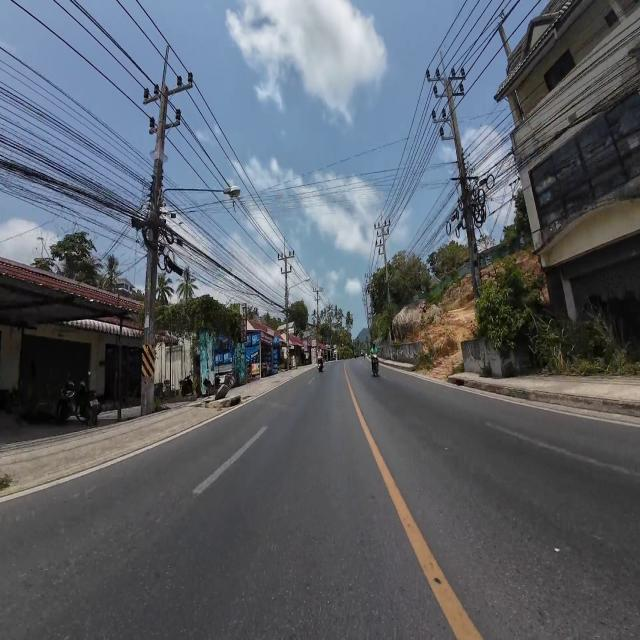motorcycle: (75, 382, 99, 426), (56, 382, 75, 423), (180, 374, 193, 397), (371, 355, 378, 376), (317, 358, 323, 372)
